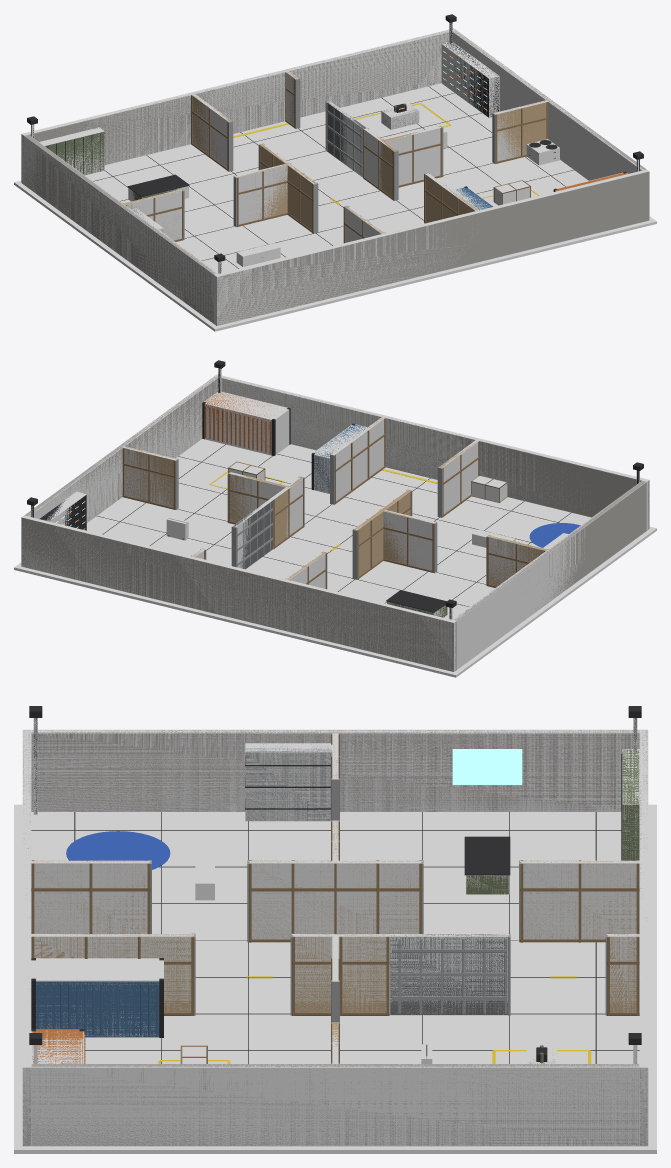
Rendered from ExpoTech_Arena.fbx.
The picture shows the model from 3 angles, top to bottom: view 1: azimuth 30°, elevation 25°; view 2: azimuth 150°, elevation 25°; view 3: azimuth 270°, elevation 25°; orthographic projection. The views are drawn at different scales.
Parts seen in each view (by area): view 1: COL_Piso, Parede_Sul, COL_Parede_Norte, Parede_Norte, COL_Parede_Sul, COL_Parede_Oeste, Parede_Oeste, COL_Parede_Leste, COL_Objetivo_Servidores, COL_Int_C2, COL_Int_D1, Int_D2 (+21 smaller); view 2: COL_Piso, Parede_Norte, COL_Parede_Norte, Parede_Sul, COL_Parede_Sul, COL_Parede_Oeste, COL_Parede_Leste, Parede_Oeste, Parede_Leste, COL_Container_A, COL_Int_B1, Int_D2 (+22 smaller); view 3: COL_Piso, COL_Parede_Leste, COL_Parede_Oeste, Parede_Oeste, Parede_Leste, COL_Int_A2, COL_Int_A3, COL_Int_A1, Int_B2_Reforcada, COL_Int_B2_Reforcada, COL_Garagem_Prateleira, Int_B2 (+25 smaller).
Part boxes in pixels (bbox=[...]): COL_Piso: bbox=[14, 83, 656, 331]; Parede_Sul: bbox=[216, 172, 649, 325]; COL_Parede_Norte: bbox=[21, 28, 456, 184]; Parede_Norte: bbox=[21, 30, 453, 182]; COL_Parede_Sul: bbox=[214, 169, 649, 325]; COL_Parede_Oeste: bbox=[24, 134, 218, 323]; Parede_Oeste: bbox=[24, 135, 217, 323]; COL_Parede_Leste: bbox=[452, 30, 646, 180]; COL_Objetivo_Servidores: bbox=[441, 42, 499, 117]; COL_Int_C2: bbox=[235, 164, 287, 224]; COL_Int_D1: bbox=[383, 126, 441, 185]; Int_D2: bbox=[495, 100, 546, 158]; COL_Piso: bbox=[14, 439, 656, 677]; Parede_Norte: bbox=[21, 518, 456, 671]; COL_Parede_Norte: bbox=[21, 515, 456, 671]; Parede_Sul: bbox=[216, 376, 649, 529]; COL_Parede_Sul: bbox=[215, 374, 649, 530]; COL_Parede_Oeste: bbox=[452, 480, 646, 669]; COL_Parede_Leste: bbox=[24, 376, 218, 522]; Parede_Oeste: bbox=[453, 481, 646, 620]; Parede_Leste: bbox=[25, 377, 218, 520]; COL_Container_A: bbox=[204, 392, 289, 455]; COL_Int_B1: bbox=[331, 417, 384, 501]; Int_D2: bbox=[124, 446, 175, 507]; COL_Piso: bbox=[14, 804, 656, 1153]; COL_Parede_Leste: bbox=[31, 1064, 639, 1146]; COL_Parede_Oeste: bbox=[31, 729, 639, 811]; Parede_Oeste: bbox=[31, 730, 639, 811]; Parede_Leste: bbox=[31, 1064, 639, 1145]; COL_Int_A2: bbox=[248, 860, 422, 939]; COL_Int_A3: bbox=[520, 860, 639, 939]; COL_Int_A1: bbox=[31, 860, 150, 933]; Int_B2_Reforcada: bbox=[390, 934, 507, 1014]; COL_Int_B2_Reforcada: bbox=[389, 934, 509, 1015]; COL_Garagem_Prateleira: bbox=[245, 743, 332, 821]; Int_B2: bbox=[295, 934, 389, 1012].
Size of the model in its own units: 37.6 by 5.55 by 29.6.
